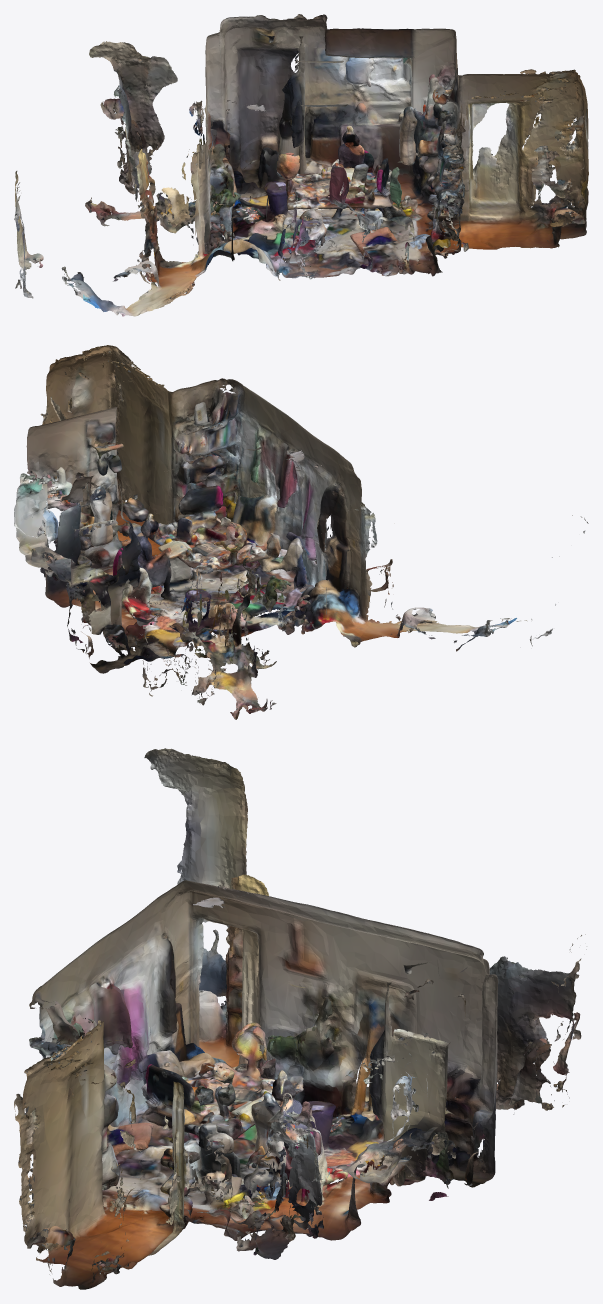
The model's file is MOMOCO WEB.glb.
3 renders of one model, top to bottom at view 1: azimuth 30°, elevation 25°; view 2: azimuth 150°, elevation 25°; view 3: azimuth 270°, elevation 25°, orthographic. The views are drawn at different scales.
Visible parts, largest first — view 1: mesh; view 2: mesh; view 3: mesh.
Boxes of the visible parts, bbox=[...] form: mesh: bbox=[14, 14, 588, 316]; mesh: bbox=[14, 345, 588, 719]; mesh: bbox=[14, 748, 586, 1289].
Size of the model in its own units: 8.79 by 2.64 by 5.87.
Materials: 1 (1 with a texture image).
